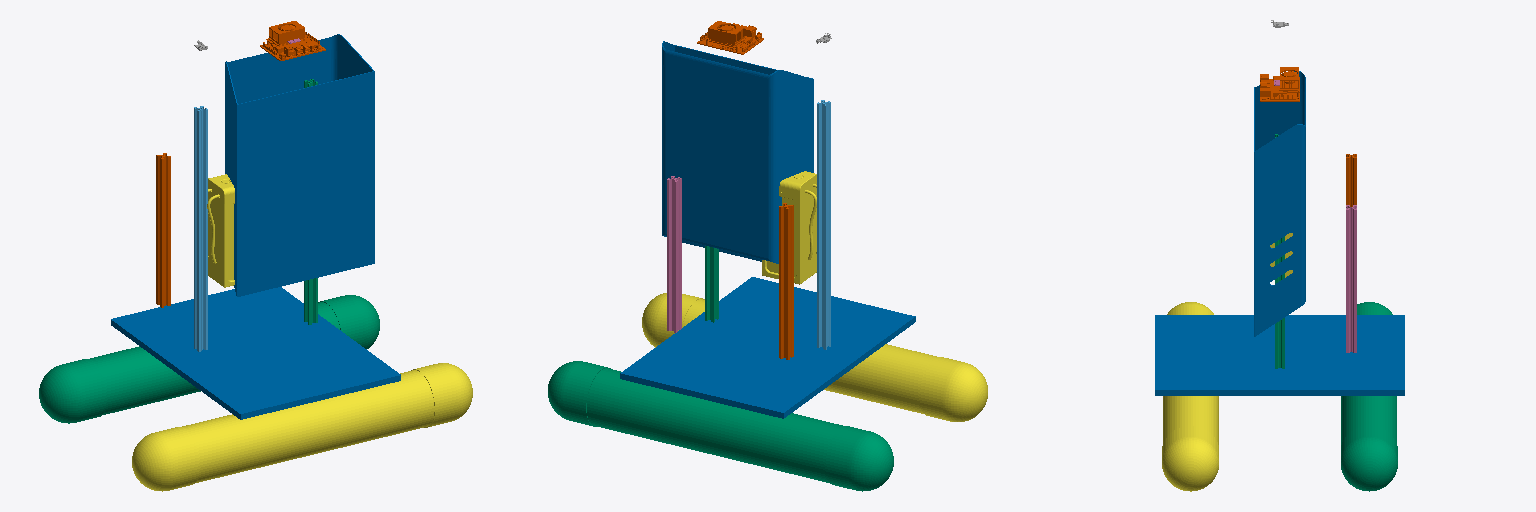
URDF robot description (asv_station_keeping_diag):
<?xml version='1.0' encoding='utf-8'?>
<robot name="asv_station_keeping_diag">
  <!-- Mesh-loading test only. Mounting poses are estimates, not Fusion occurrence transforms. 00_base has no visuals. -->
  <link name="base_footprint" />
  <link name="base_link">
    <inertial>
      <origin xyz="0 0 0" rpy="0 0 0" />
      <mass value="0.1" />
      <inertia ixx="0.0001" ixy="0" ixz="0" iyy="0.0001" iyz="0" izz="0.0001" />
    </inertial>
  </link>
  <link name="hull_left">
    <inertial>
      <origin xyz="0.0017543 -0.0000047 -0.0000010" rpy="0 0 0" />
      <mass value="8.7513272838" />
      <inertia ixx="0.0159438897" ixy="0" ixz="0" iyy="0.7485544942" iyz="0" izz="0.7485544942" />
    </inertial>
    <visual name="hull_left_visual">
      <origin xyz="-0.971730 0.357754 -1.641617" rpy="0 0 -1.57079632679" />
      <geometry>
        <mesh filename="package://asv_station_keeping/meshes/hull.stl" scale="0.001 0.001 0.001" />
      </geometry>
    </visual>
    <collision name="hull_left_collision">
      <geometry>
        <box size="0.724805 0.112973 0.112998" />
      </geometry>
    </collision>
  </link>
  <link name="hull_right">
    <inertial>
      <origin xyz="0.0017543 -0.0000047 -0.0000010" rpy="0 0 0" />
      <mass value="8.7513272838" />
      <inertia ixx="0.0159438897" ixy="0" ixz="0" iyy="0.7485544942" iyz="0" izz="0.7485544942" />
    </inertial>
    <visual name="hull_right_visual">
      <origin xyz="-0.971730 0.357754 -1.641617" rpy="0 0 -1.57079632679" />
      <geometry>
        <mesh filename="package://asv_station_keeping/meshes/hull.stl" scale="0.001 0.001 0.001" />
      </geometry>
    </visual>
    <collision name="hull_right_collision">
      <geometry>
        <box size="0.724805 0.112973 0.112998" />
      </geometry>
    </collision>
  </link>
  <link name="base_deck">
    <inertial>
      <origin xyz="0 0 0" rpy="0 0 0" />
      <mass value="16.1553" />
      <inertia ixx="0.3234344911" ixy="0" ixz="0" iyy="0.1651125511" iyz="0" izz="0.4881593150" />
    </inertial>
    <visual name="base_deck_visual">
      <origin xyz="-0.142254 -0.216347 -0.006000" rpy="1.57079632679 0 0" />
      <geometry>
        <mesh filename="package://asv_station_keeping/meshes/base_deck.stl" scale="0.001 0.001 0.001" />
      </geometry>
    </visual>
    <collision name="base_deck_collision">
      <geometry>
        <box size="0.350 0.490 0.012" />
      </geometry>
    </collision>
  </link>
  <link name="frame1_left">
    <inertial>
      <origin xyz="0 0 0" />
      <mass value="0.41469714" />
      <inertia ixx="0.00333785" ixy="0" ixz="0" iyy="0.00333785" iyz="0" izz="0.0000336422" />
    </inertial>
    <visual>
      <geometry>
        <mesh filename="package://asv_station_keeping/meshes/frame1.stl" scale="0.001 0.001 0.001" />
      </geometry>
    </visual>
    <collision>
      <geometry>
        <cylinder radius="0.010" length="0.310" />
      </geometry>
    </collision>
  </link>
  <link name="frame1_right">
    <inertial>
      <origin xyz="0 0 0" />
      <mass value="0.41469714" />
      <inertia ixx="0.00333785" ixy="0" ixz="0" iyy="0.00333785" iyz="0" izz="0.0000336422" />
    </inertial>
    <visual>
      <geometry>
        <mesh filename="package://asv_station_keeping/meshes/frame1.stl" scale="0.001 0.001 0.001" />
      </geometry>
    </visual>
    <collision>
      <geometry>
        <cylinder radius="0.010" length="0.310" />
      </geometry>
    </collision>
  </link>
  <link name="frame2_left">
    <inertial>
      <origin xyz="0 0 0" />
      <mass value="0.66886635" />
      <inertia ixx="0.01396185" ixy="0" ixz="0" iyy="0.01396185" iyz="0" izz="0.000054262" />
    </inertial>
    <visual>
      <geometry>
        <mesh filename="package://asv_station_keeping/meshes/frame2.stl" scale="0.001 0.001 0.001" />
      </geometry>
    </visual>
    <collision>
      <geometry>
        <cylinder radius="0.010" length="0.500" />
      </geometry>
    </collision>
  </link>
  <link name="frame2_right">
    <inertial>
      <origin xyz="0 0 0" />
      <mass value="0.66886635" />
      <inertia ixx="0.01396185" ixy="0" ixz="0" iyy="0.01396185" iyz="0" izz="0.000054262" />
    </inertial>
    <visual>
      <geometry>
        <mesh filename="package://asv_station_keeping/meshes/frame2.stl" scale="0.001 0.001 0.001" />
      </geometry>
    </visual>
    <collision>
      <geometry>
        <cylinder radius="0.010" length="0.500" />
      </geometry>
    </collision>
  </link>
  <link name="frame3_left">
    <inertial>
      <origin xyz="0 0 0" />
      <mass value="0.66886635" />
      <inertia ixx="0.01396185" ixy="0" ixz="0" iyy="0.01396185" iyz="0" izz="0.000054262" />
    </inertial>
    <visual>
      <geometry>
        <mesh filename="package://asv_station_keeping/meshes/frame3.stl" scale="0.001 0.001 0.001" />
      </geometry>
    </visual>
    <collision>
      <geometry>
        <cylinder radius="0.010" length="0.500" />
      </geometry>
    </collision>
  </link>
  <link name="frame3_right">
    <inertial>
      <origin xyz="0 0 0" />
      <mass value="0.66886635" />
      <inertia ixx="0.01396185" ixy="0" ixz="0" iyy="0.01396185" iyz="0" izz="0.000054262" />
    </inertial>
    <visual>
      <geometry>
        <mesh filename="package://asv_station_keeping/meshes/frame3.stl" scale="0.001 0.001 0.001" />
      </geometry>
    </visual>
    <collision>
      <geometry>
        <cylinder radius="0.010" length="0.500" />
      </geometry>
    </collision>
  </link>
  <link name="battery">
    <inertial>
      <origin xyz="0.011821 0 0.000846" />
      <mass value="8.29420474" />
      <inertia ixx="0.0317350" ixy="0" ixz="0.0000687" iyy="0.0339037" iyz="0" izz="0.00778636" />
    </inertial>
    <visual>
      <origin xyz="0.012244 -0.035000 -0.000150" />
      <geometry>
        <mesh filename="package://asv_station_keeping/meshes/battery.stl" scale="0.001 0.001 0.001" />
      </geometry>
    </visual>
    <collision>
      <geometry>
        <box size="0.109 0.070 0.202" />
      </geometry>
    </collision>
  </link>
  <link name="electronics">
    <inertial>
      <origin xyz="0 -0.005565 -0.000224" />
      <mass value="4.50915118" />
      <inertia ixx="0.0697094" ixy="0" ixz="0" iyy="0.1035140" iyz="-0.00452282" izz="0.0519051" />
    </inertial>
    <visual>
      <origin xyz="0 -0.051000 -0.023578" />
      <geometry>
        <mesh filename="package://asv_station_keeping/meshes/electronics.stl" scale="0.001 0.001 0.001" />
      </geometry>
    </visual>
    <collision>
      <geometry>
        <box size="0.300 0.102 0.447" />
      </geometry>
    </collision>
  </link>
  <link name="jetson_nano">
    <inertial>
      <origin xyz="-0.001623 0.002547 -0.004382" />
      <mass value="0.55767391" />
      <inertia ixx="0.00033845" ixy="0.000000893" ixz="0.00000257" iyy="0.00033690" iyz="-0.00004065" izz="0.00056875" />
    </inertial>
    <visual>
      <origin xyz="-0.004000 -0.007385 -0.025097" />
      <geometry>
        <mesh filename="package://asv_station_keeping/meshes/Jetson-Nano.stl" scale="0.001 0.001 0.001" />
      </geometry>
    </visual>
    <collision>
      <geometry>
        <box size="0.100 0.080 0.040" />
      </geometry>
    </collision>
  </link>
  <link name="imu_link">
    <inertial>
      <origin xyz="-0.00000256 0.00000402 0" />
      <mass value="0.00700317" />
      <inertia ixx="0.0000002895" ixy="0.000000000021" ixz="0" iyy="0.0000003634" iyz="0" izz="0.0000006497" />
    </inertial>
    <visual>
      <geometry>
        <mesh filename="package://asv_station_keeping/meshes/imu_Adafruit-BNO085-STEMMA-QT.step_Printed-Circuit-Board.step.stl" scale="0.001 0.001 0.001" />
      </geometry>
    </visual>
    <collision>
      <geometry>
        <box size="0.0254 0.0229 0.00165" />
      </geometry>
    </collision>
  </link>
  <link name="gps">
    <inertial>
      <origin xyz="0.000722 -0.000920 -0.001504" />
      <mass value="0.0120864" />
      <inertia ixx="0.0000007935" ixy="-0.0000001189" ixz="-0.0000000123" iyy="0.0000003115" iyz="-0.0000000289" izz="0.0000010352" />
    </inertial>
    <visual>
      <origin xyz="0.477241 -0.271714 -0.058863" />
      <geometry>
        <mesh filename="package://asv_station_keeping/meshes/gps.stl" scale="0.001 0.001 0.001" />
      </geometry>
    </visual>
    <collision>
      <geometry>
        <box size="0.018 0.038 0.010" />
      </geometry>
    </collision>
  </link>
  <joint name="base_footprint_to_base_link" type="fixed">
    <parent link="base_footprint" />
    <child link="base_link" />
    <origin xyz="0 0 0" rpy="0 0 0" />
  </joint>
  <joint name="base_to_hull_left" type="fixed">
    <parent link="base_link" />
    <child link="hull_left" />
    <origin xyz="0 0.175 0.055" rpy="0 0 0" />
  </joint>
  <joint name="base_to_hull_right" type="fixed">
    <parent link="base_link" />
    <child link="hull_right" />
    <origin xyz="0 -0.175 0.055" rpy="0 0 0" />
  </joint>
  <joint name="base_to_base_deck" type="fixed">
    <parent link="base_link" />
    <child link="base_deck" />
    <origin xyz="0 0 0.145" rpy="0 0 0" />
  </joint>
  <joint name="deck_to_frame1_left" type="fixed">
    <parent link="base_deck" />
    <child link="frame1_left" />
    <origin xyz="-0.12 0.14 0.22" />
  </joint>
  <joint name="deck_to_frame1_right" type="fixed">
    <parent link="base_deck" />
    <child link="frame1_right" />
    <origin xyz="0.12 0.14 0.22" />
  </joint>
  <joint name="deck_to_frame2_left" type="fixed">
    <parent link="base_deck" />
    <child link="frame2_left" />
    <origin xyz="-0.12 -0.14 0.28" />
  </joint>
  <joint name="deck_to_frame2_right" type="fixed">
    <parent link="base_deck" />
    <child link="frame2_right" />
    <origin xyz="0.12 -0.14 0.28" />
  </joint>
  <joint name="deck_to_frame3_left" type="fixed">
    <parent link="base_deck" />
    <child link="frame3_left" />
    <origin xyz="-0.12 0 0.28" />
  </joint>
  <joint name="deck_to_frame3_right" type="fixed">
    <parent link="base_deck" />
    <child link="frame3_right" />
    <origin xyz="0.12 0 0.28" />
  </joint>
  <joint name="deck_to_battery" type="fixed">
    <parent link="base_deck" />
    <child link="battery" />
    <origin xyz="-0.06 0 0.265" />
  </joint>
  <joint name="deck_to_electronics" type="fixed">
    <parent link="base_deck" />
    <child link="electronics" />
    <origin xyz="0.08 0 0.370" />
  </joint>
  <joint name="electronics_to_jetson" type="fixed">
    <parent link="electronics" />
    <child link="jetson_nano" />
    <origin xyz="0 0 0.255" />
  </joint>
  <joint name="electronics_to_imu" type="fixed">
    <parent link="electronics" />
    <child link="imu_link" />
    <origin xyz="0 0 0.255" />
  </joint>
  <joint name="deck_to_gps" type="fixed">
    <parent link="base_deck" />
    <child link="gps" />
    <origin xyz="-0.12 0 0.66" />
  </joint>
</robot>

--- Render facts (derived) ---
Views: 3 orthographic renders of the robot side by side, from view 1: azimuth 30°, elevation 25°; view 2: azimuth 150°, elevation 25°; view 3: azimuth 270°, elevation 25°.
Model asv_station_keeping_diag with 16 links and 15 joints (15 fixed), rooted at base_footprint, posed every joint at zero.
Visible links, largest first — view 1: electronics, base_deck, hull_right, hull_left, frame3_left, battery, frame1_left, jetson_nano, frame3_right; view 2: electronics, base_deck, hull_left, hull_right, frame3_left, battery, frame1_left, frame1_right, jetson_nano, frame3_right; view 3: base_deck, electronics, hull_right, hull_left, frame1_right, jetson_nano, frame3_right, frame1_left.
Link boxes in pixels (box(x1,y1,x2,y2)): electronics: box(225, 34, 374, 296); base_deck: box(111, 287, 400, 419); hull_right: box(132, 363, 472, 491); hull_left: box(39, 295, 379, 423); frame3_left: box(194, 106, 207, 351); battery: box(207, 174, 234, 287); frame1_left: box(156, 153, 170, 307); jetson_nano: box(260, 21, 325, 60); frame3_right: box(304, 79, 317, 324); electronics: box(662, 41, 813, 263); base_deck: box(620, 277, 915, 418); hull_left: box(548, 361, 893, 491); hull_right: box(642, 293, 987, 421); frame3_left: box(817, 100, 830, 349); battery: box(762, 171, 816, 284); frame1_left: box(779, 203, 793, 359); frame1_right: box(667, 176, 681, 332); jetson_nano: box(697, 21, 763, 54); frame3_right: box(705, 246, 718, 322); base_deck: box(1155, 315, 1404, 395); electronics: box(1254, 71, 1305, 336); hull_right: box(1162, 302, 1218, 491); hull_left: box(1341, 302, 1397, 491); frame1_right: box(1346, 205, 1356, 352); jetson_nano: box(1260, 67, 1299, 101); frame3_right: box(1275, 134, 1284, 368); frame1_left: box(1346, 154, 1356, 206).
Size in the robot's own frame: 0.7248 by 0.49 by 0.8112 metres.
12 mesh visuals loaded from 10 distinct referenced files (9 binary STL); not drawn: 2 (reference not matched to a file when rendering).
